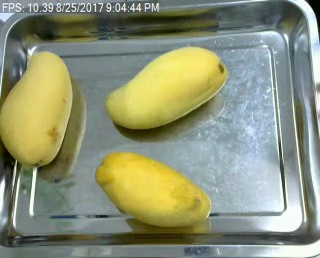Mango: (104, 46, 228, 134), (95, 149, 215, 229), (0, 50, 75, 166)
